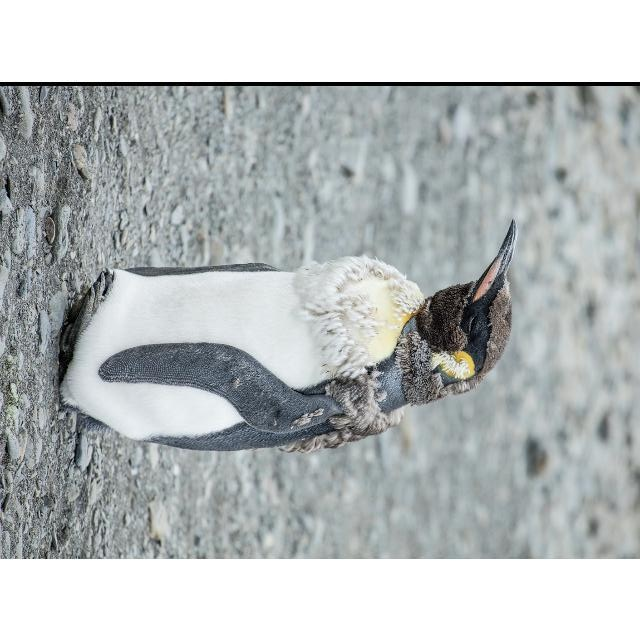penguin: (56, 219, 519, 454)
